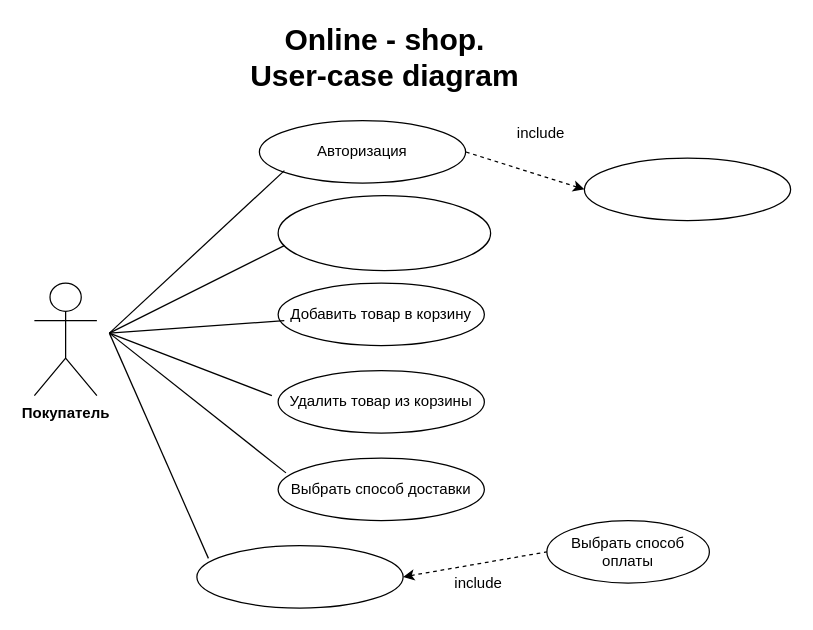
Some shapes in this 813 by 630 pixel diagram are drawn without their labels. Here are the shapes that lost their labels. From the top down, the box of each, then its label:
(583, 157, 791, 221): Ввод логина, пароля
(277, 194, 491, 271): Просмотр/поиск товара по каталогу
(196, 544, 403, 608): Оплатить товар
